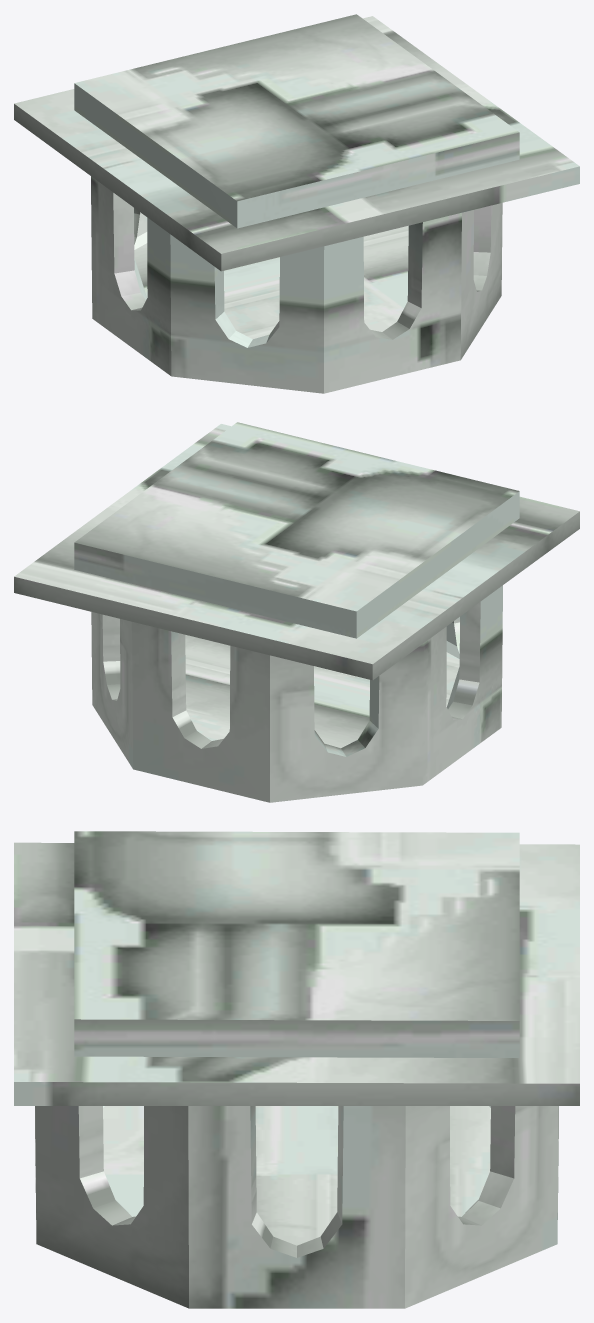
The model's file is BuildingBlock03.obj.
3 views of the same model, one above another, from view 1: azimuth 30°, elevation 25°; view 2: azimuth 150°, elevation 25°; view 3: azimuth 270°, elevation 25° (orthographic). The views are drawn at different scales.
Parts seen in each view (by area): view 1: BuildingBlock03_0; view 2: BuildingBlock03_0; view 3: BuildingBlock03_0.
Boxes of the visible parts, left/top/right/bottom form: BuildingBlock03_0: left=14, top=14, right=579, bottom=393; BuildingBlock03_0: left=14, top=422, right=579, bottom=802; BuildingBlock03_0: left=14, top=831, right=579, bottom=1308.
Bounding box in the file's own units: 1.5 × 0.7983 × 1.5.
Materials: 1 (1 with a texture image).
